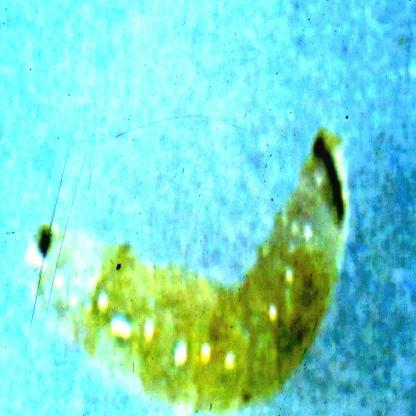whorl-maggot: (29, 127, 352, 409)
